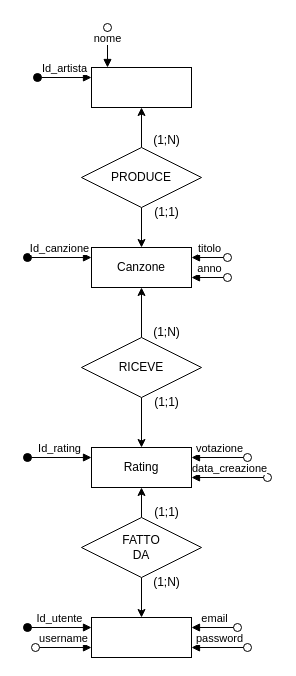
This 296x676 diagram has some shape labels left out. Each missing label, with the centre of its shape:
"Artista" goes at [141,87].
"Utente" goes at [141,637].
